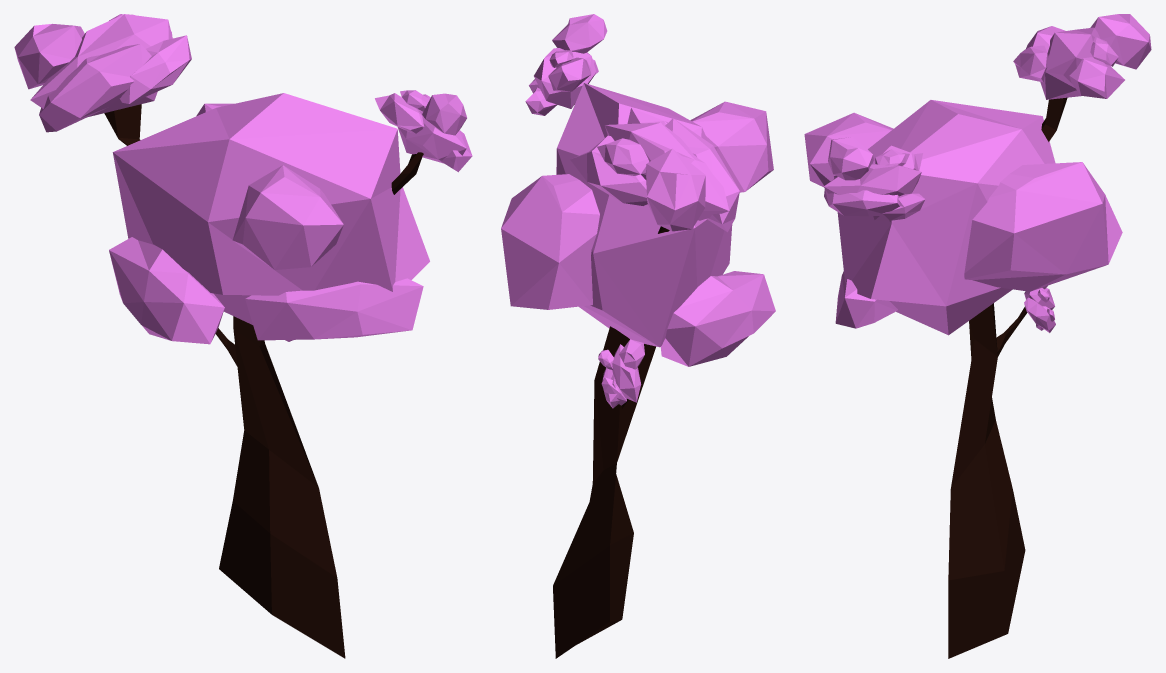
The model's file is sakura_2.FBX.
3 views of the same model, side by side, from view 1: azimuth 30°, elevation 25°; view 2: azimuth 150°, elevation 25°; view 3: azimuth 270°, elevation 25° (orthographic). The views are drawn at different scales.
Visible parts, largest first — view 1: Box012; view 2: Box012; view 3: Box012.
Part boxes in pixels (x1,y1,x2,y2): Box012: (14,14,472,658); Box012: (501,14,775,658); Box012: (804,14,1151,658).
Size of the model in its own units: 3.52 by 6.7 by 3.75.
